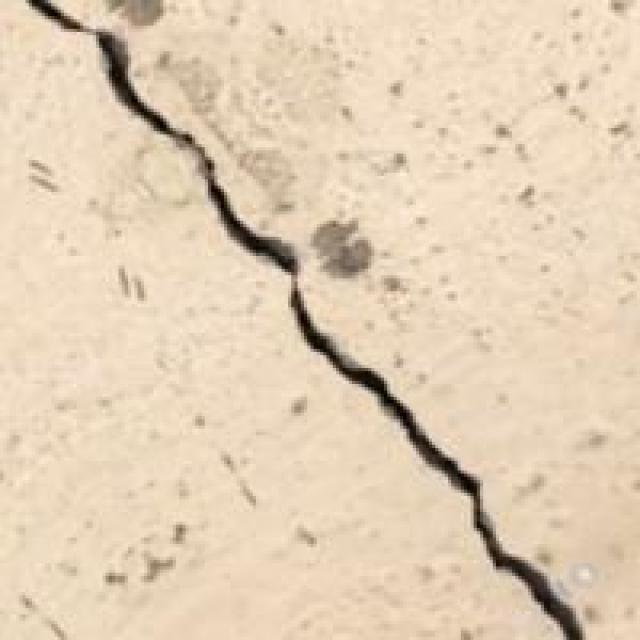Crack: (29, 0, 592, 637)
